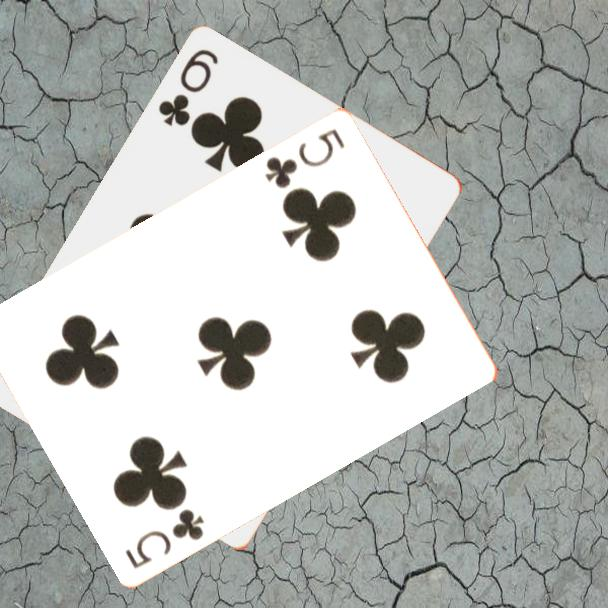c05: (261, 124, 348, 191), (121, 504, 208, 571)
c06: (155, 46, 222, 130)
